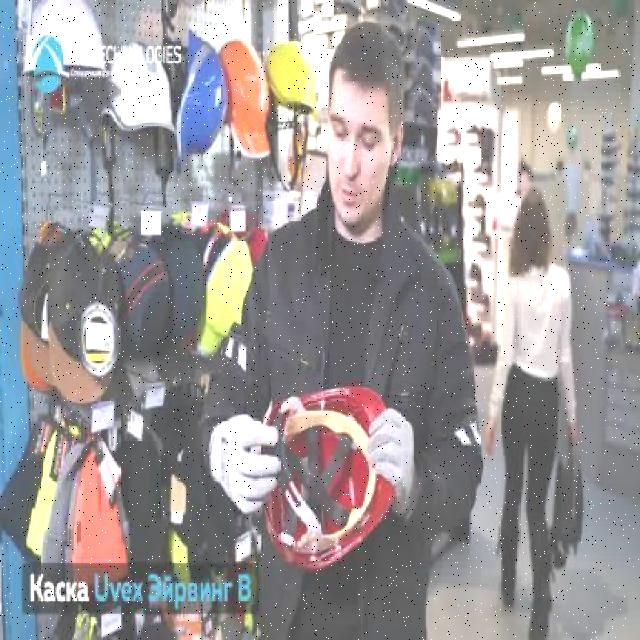Gloves: (208, 414, 280, 518), (365, 407, 418, 522)
Helmet: (260, 382, 397, 576), (172, 26, 230, 177), (100, 39, 180, 132), (22, 0, 112, 82), (220, 34, 274, 160), (265, 36, 324, 118)
